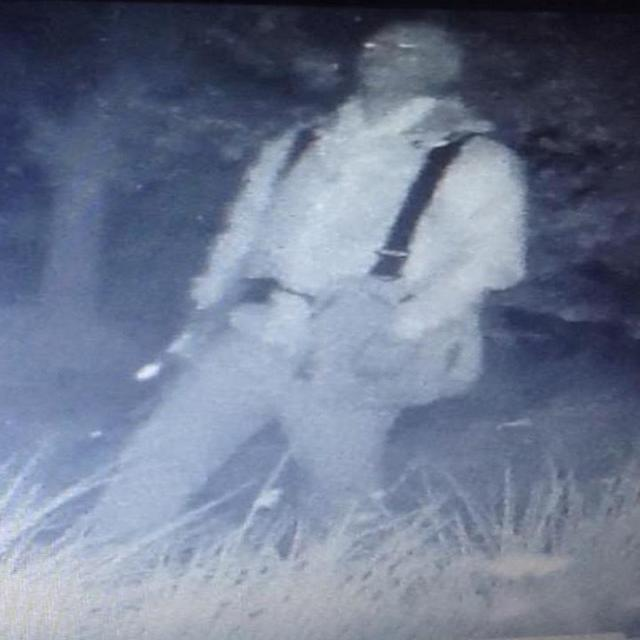poacher: (107, 10, 539, 492)
weapon: (37, 268, 280, 528)
